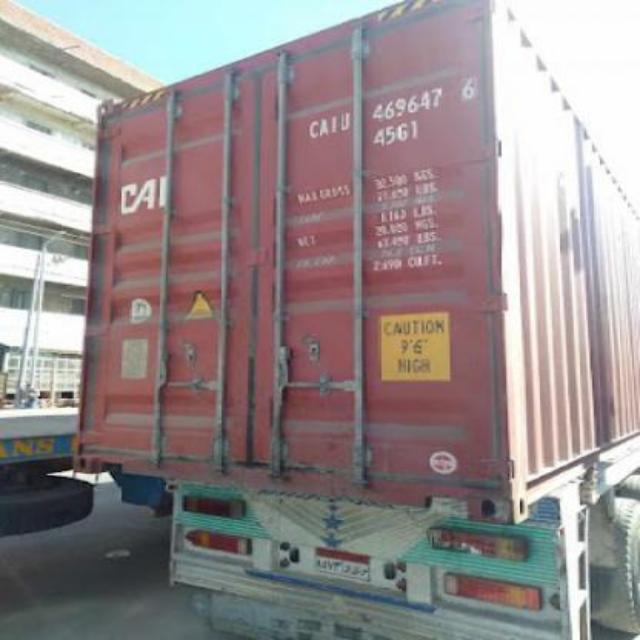4: (416, 87, 429, 113), (371, 100, 384, 124)
6: (456, 72, 476, 102), (381, 97, 394, 123), (406, 90, 419, 116)
7: (428, 75, 444, 113)
9: (392, 93, 406, 117)
A: (318, 115, 328, 142)
C: (306, 116, 320, 144)
I: (328, 112, 340, 142)
U: (338, 109, 352, 135)
